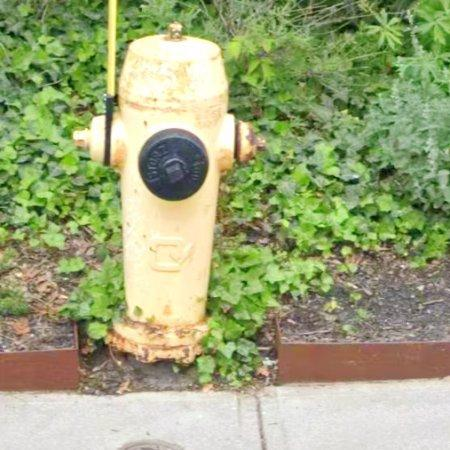a fire hydrant: (107, 23, 257, 364)
